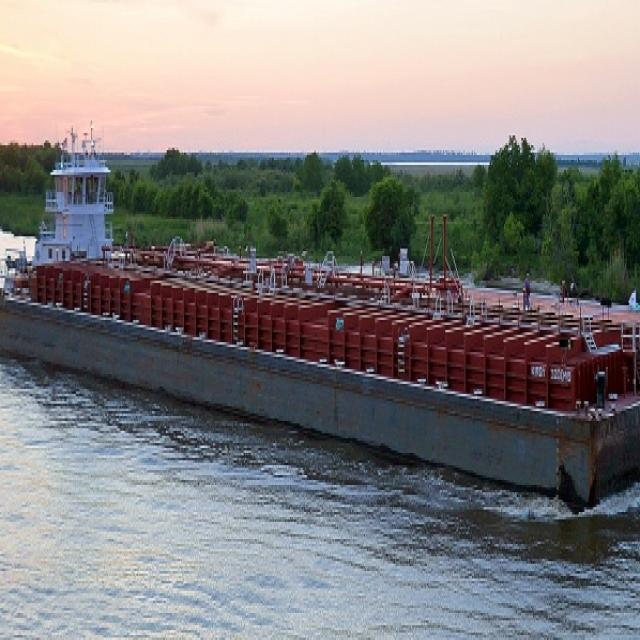tugboat: (1, 141, 125, 373)
